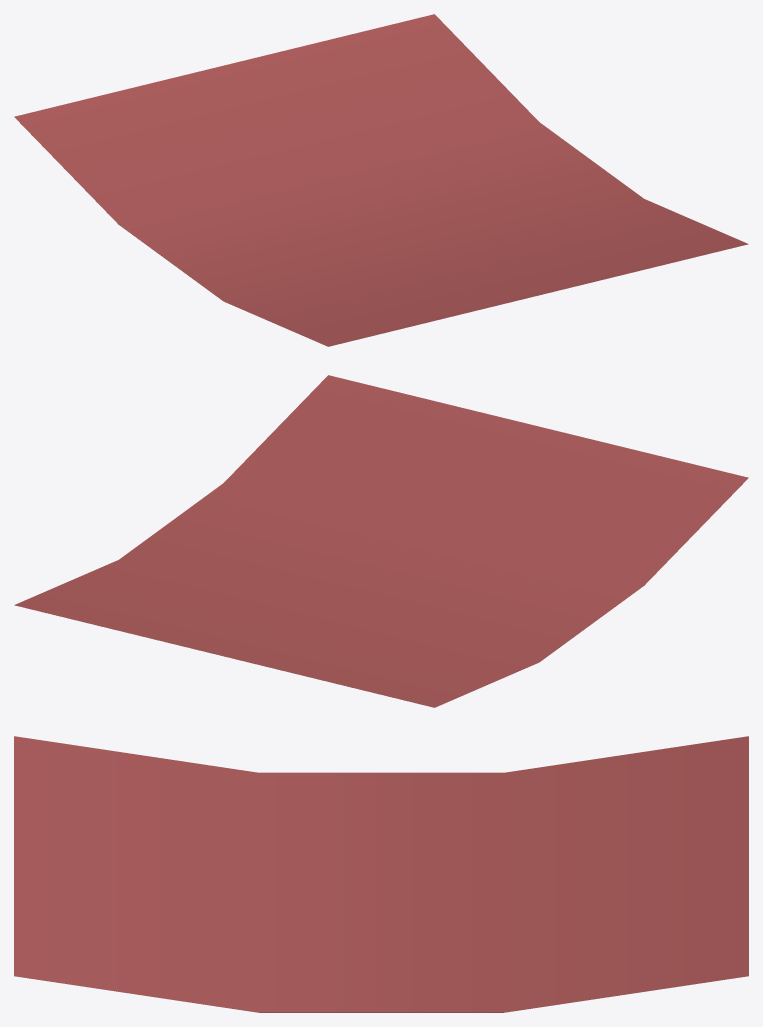
The model's file is Paper2_UV.fbx.
3 views of the same model, one above another, from view 1: azimuth 30°, elevation 25°; view 2: azimuth 150°, elevation 25°; view 3: azimuth 270°, elevation 25° (orthographic). The views are drawn at different scales.
Parts seen in each view (by area): view 1: polySurface1; view 2: polySurface1; view 3: polySurface1.
Boxes of the visible parts, x1,y1,x2,y2 form: polySurface1: (14, 14, 748, 346); polySurface1: (14, 375, 748, 707); polySurface1: (14, 736, 748, 1012).
Size of the model in its own units: 0.85 by 0.0606 by 1.1.
